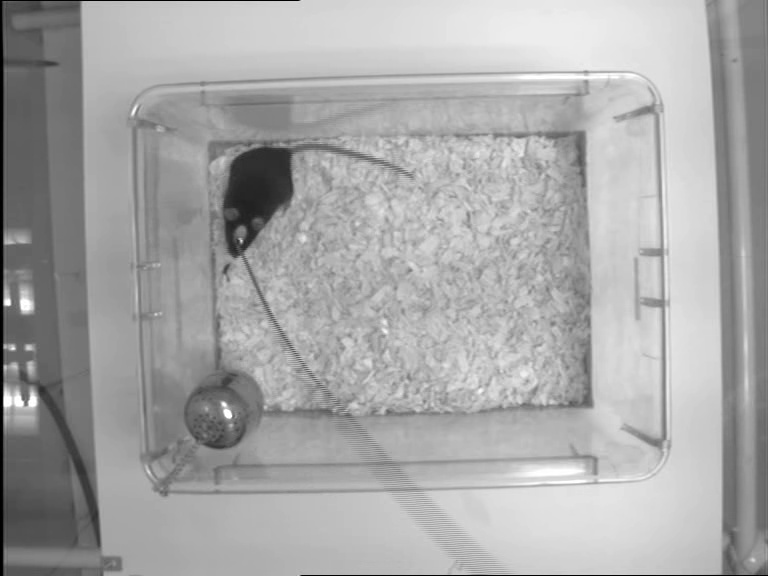mice: (223, 140, 416, 259)
